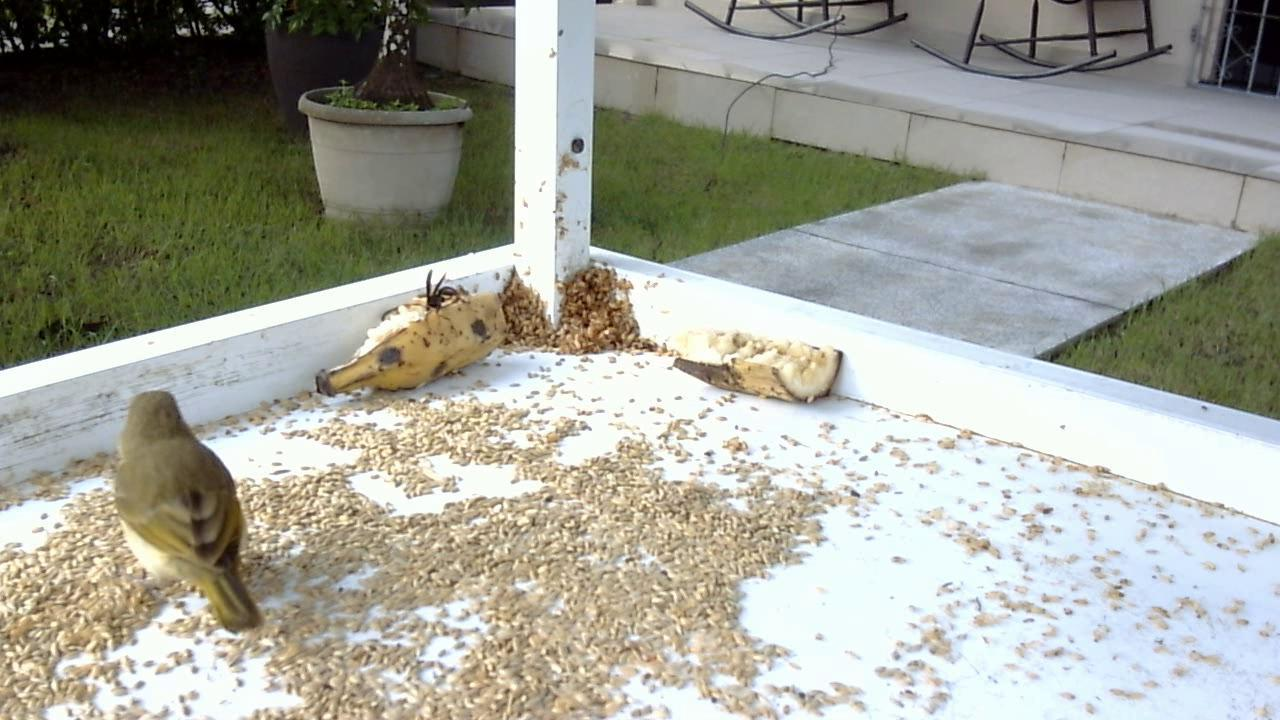canario_do_amazonas: (105, 382, 274, 641)
